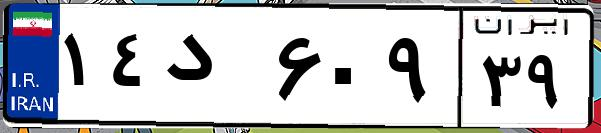0: (330, 28, 385, 110)
1: (57, 26, 110, 100)
3: (475, 38, 525, 113)
4: (110, 28, 158, 98)
6: (270, 28, 330, 110)
9: (385, 28, 445, 110), (525, 38, 570, 115)
د: (158, 20, 270, 120)
